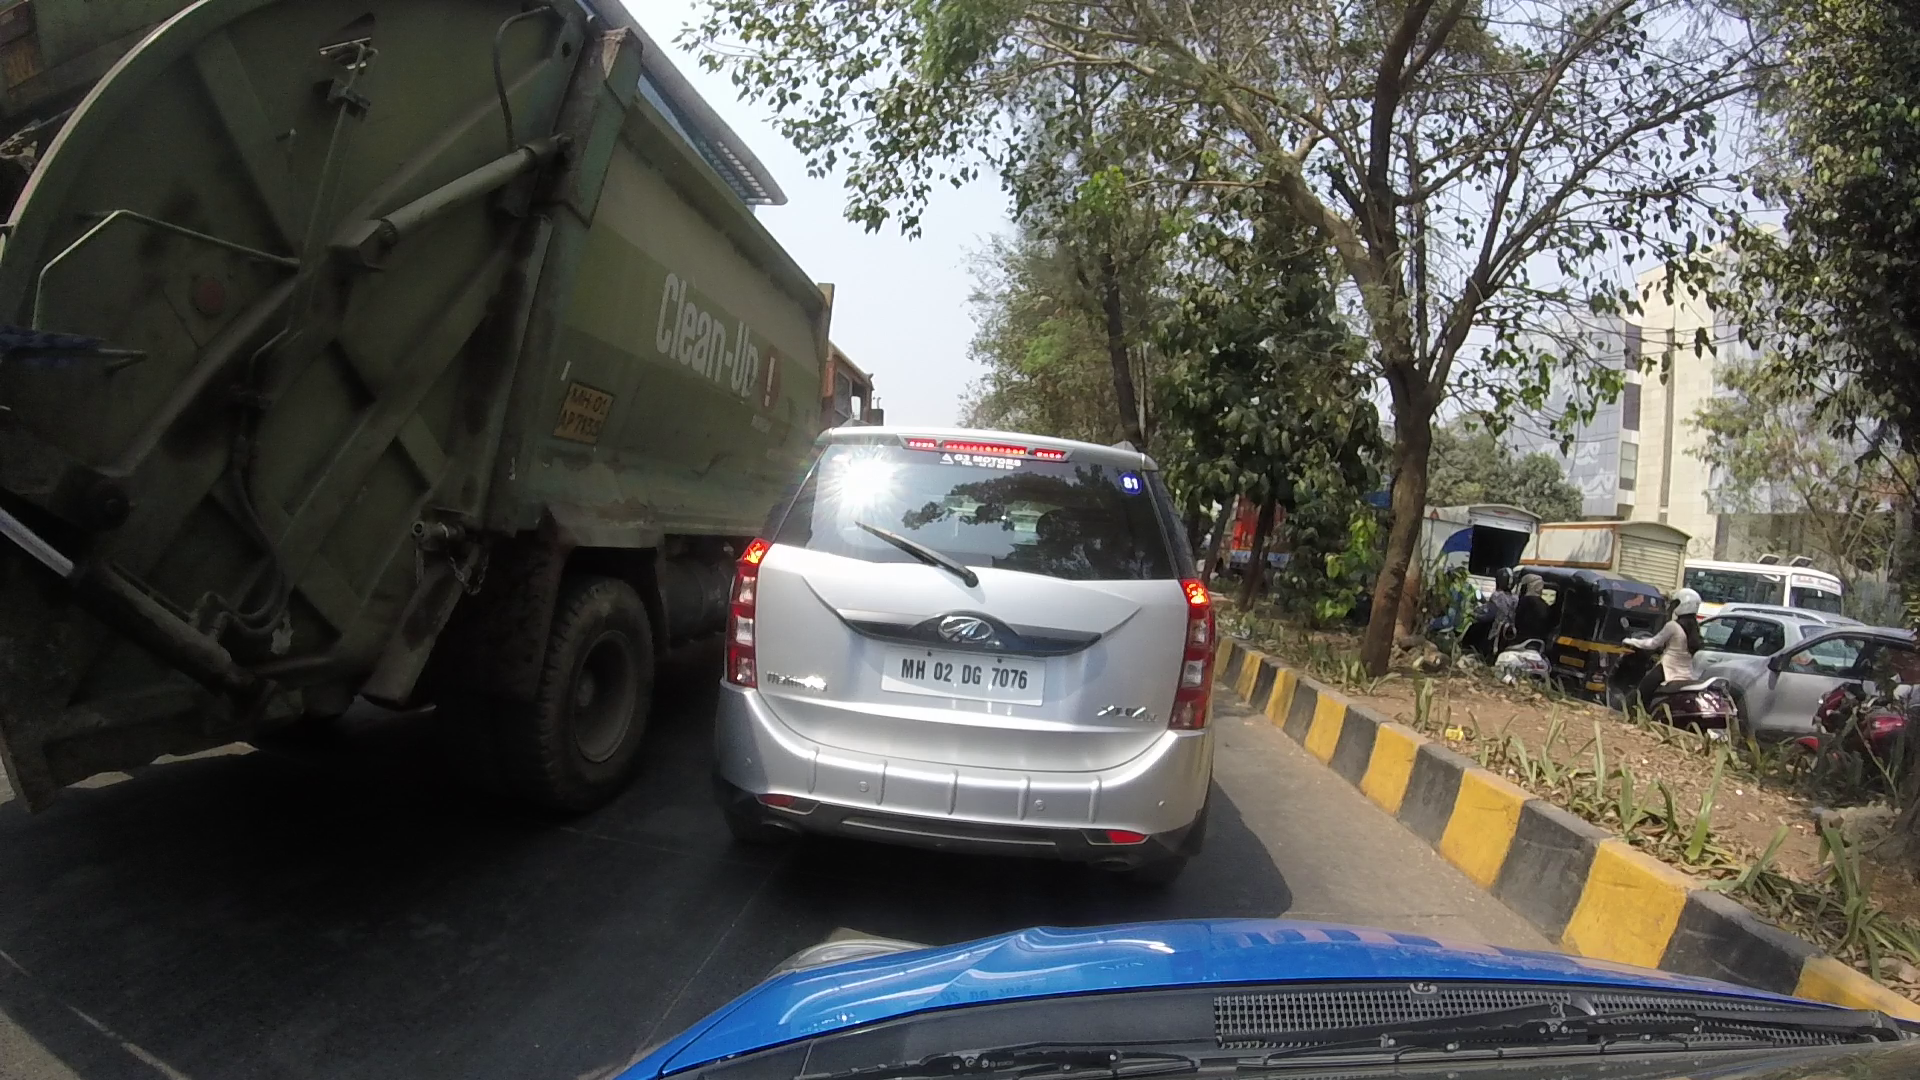car: (735, 430, 1218, 851)
truck: (51, 11, 866, 810)
